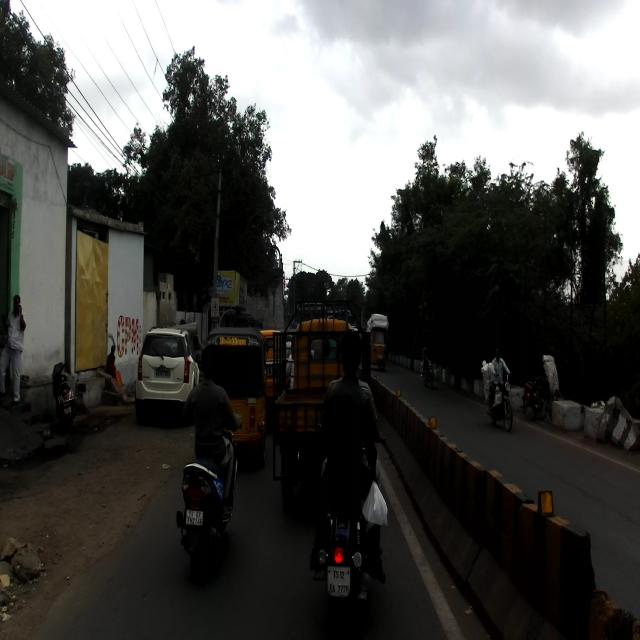autorickshaw: (270, 298, 372, 508), (200, 327, 270, 471)
car: (134, 326, 202, 419)
motorcycle: (308, 420, 385, 639), (486, 369, 514, 432)
scooter: (175, 422, 243, 574), (50, 358, 77, 431)
